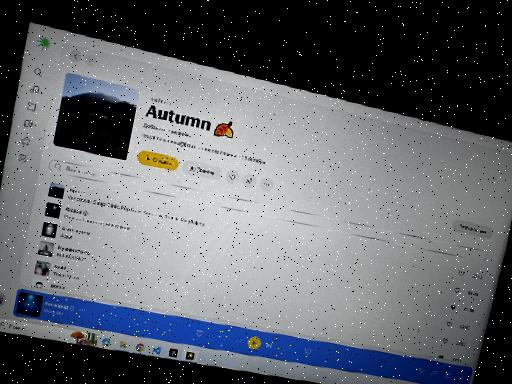yandexmusic: (0, 32, 512, 384)
